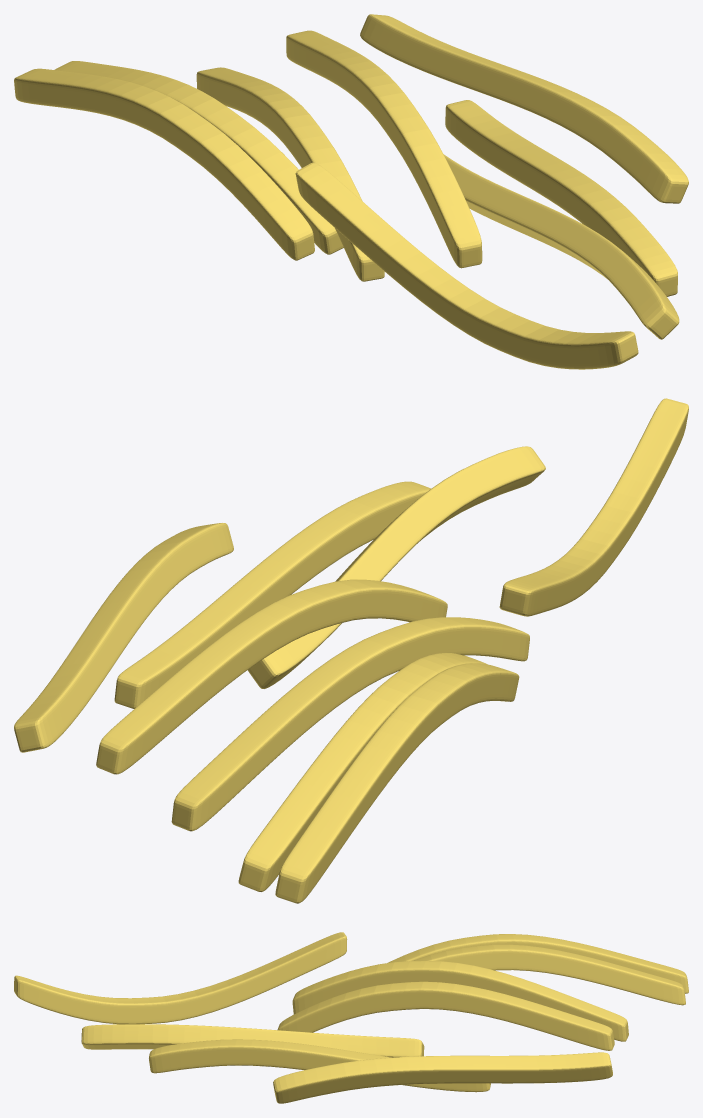
Rendered from pattis1.fbx.
3 renders of one model, top to bottom at view 1: azimuth 30°, elevation 25°; view 2: azimuth 150°, elevation 25°; view 3: azimuth 270°, elevation 25°, orthographic. The views are drawn at different scales.
Visible parts, largest first — view 1: pattisbabaağğğğ; view 2: pattisbabaağğğğ; view 3: pattisbabaağğğğ.
Boxes of the visible parts, left/top/right/bottom form: pattisbabaağğğğ: left=14, top=14, right=688, bottom=369; pattisbabaağğğğ: left=14, top=398, right=688, bottom=903; pattisbabaağğğğ: left=14, top=932, right=688, bottom=1103.
Size of the model in its own units: 0.0883 by 0.0221 by 0.1908.
